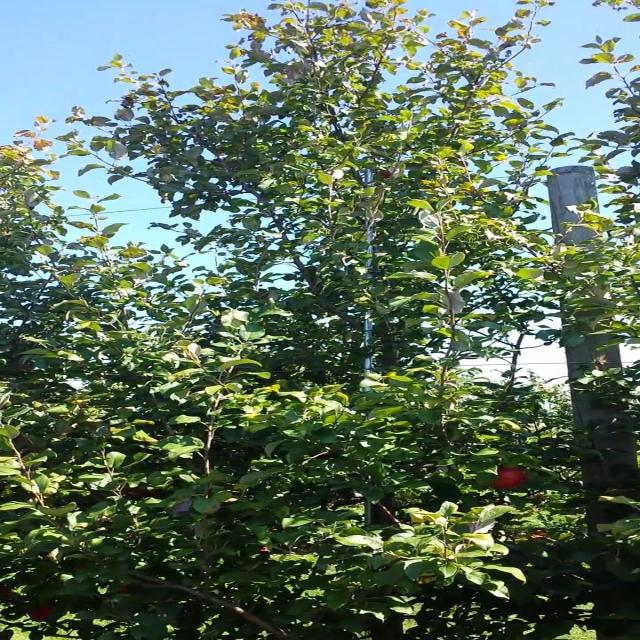apple: (490, 468, 530, 491), (28, 604, 55, 623), (120, 584, 133, 596), (383, 172, 393, 180), (6, 588, 14, 597)
